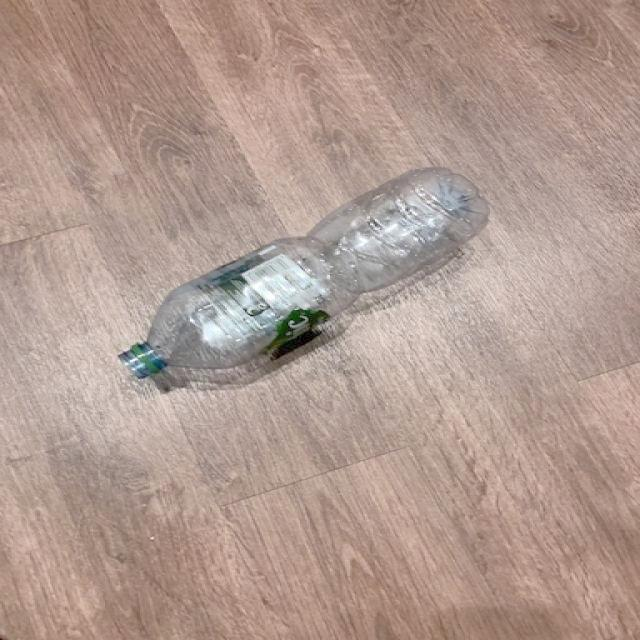bottle: (119, 167, 494, 383)
